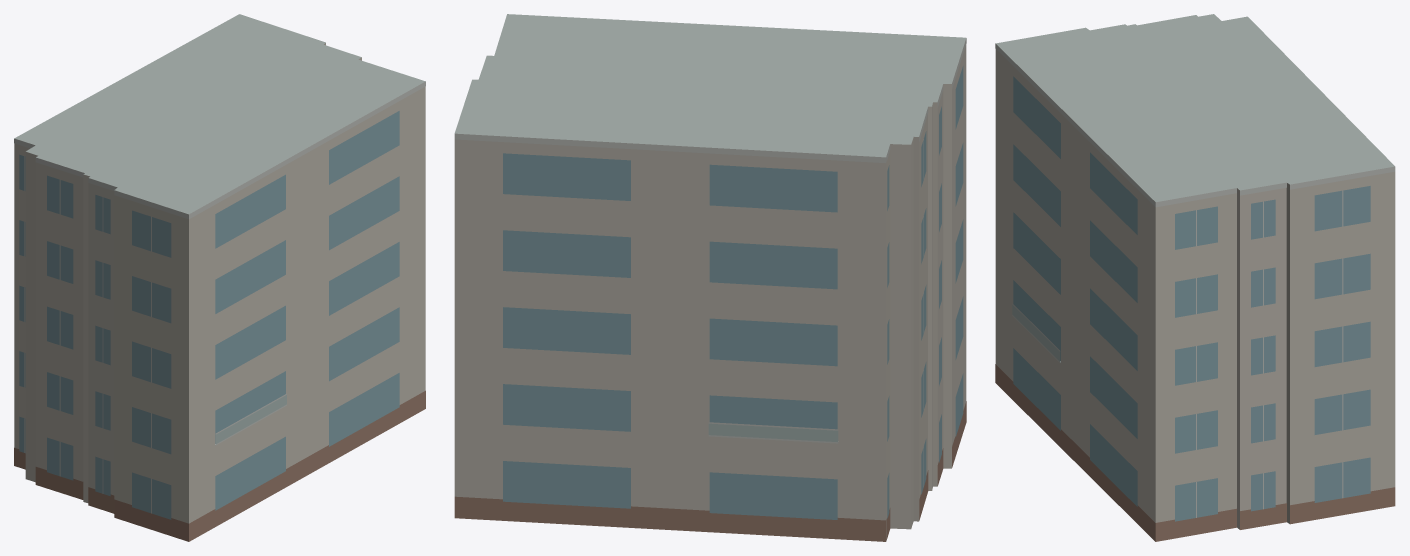
The model's file is survey-upis-32974908.glb.
The picture shows the model from 3 angles, left to right: view 1: azimuth 30°, elevation 25°; view 2: azimuth 150°, elevation 25°; view 3: azimuth 270°, elevation 25°; orthographic projection. The views are drawn at different scales.
Visible parts, largest first — view 1: survey-upis-32974908.tmp; view 2: survey-upis-32974908.tmp; view 3: survey-upis-32974908.tmp.
Boxes of the visible parts, <box> form: survey-upis-32974908.tmp: <box>14,14,425,541</box>; survey-upis-32974908.tmp: <box>454,14,966,541</box>; survey-upis-32974908.tmp: <box>995,14,1395,541</box>.
Bounding box in the file's own units: 19.21 × 16.15 × 17.24.
